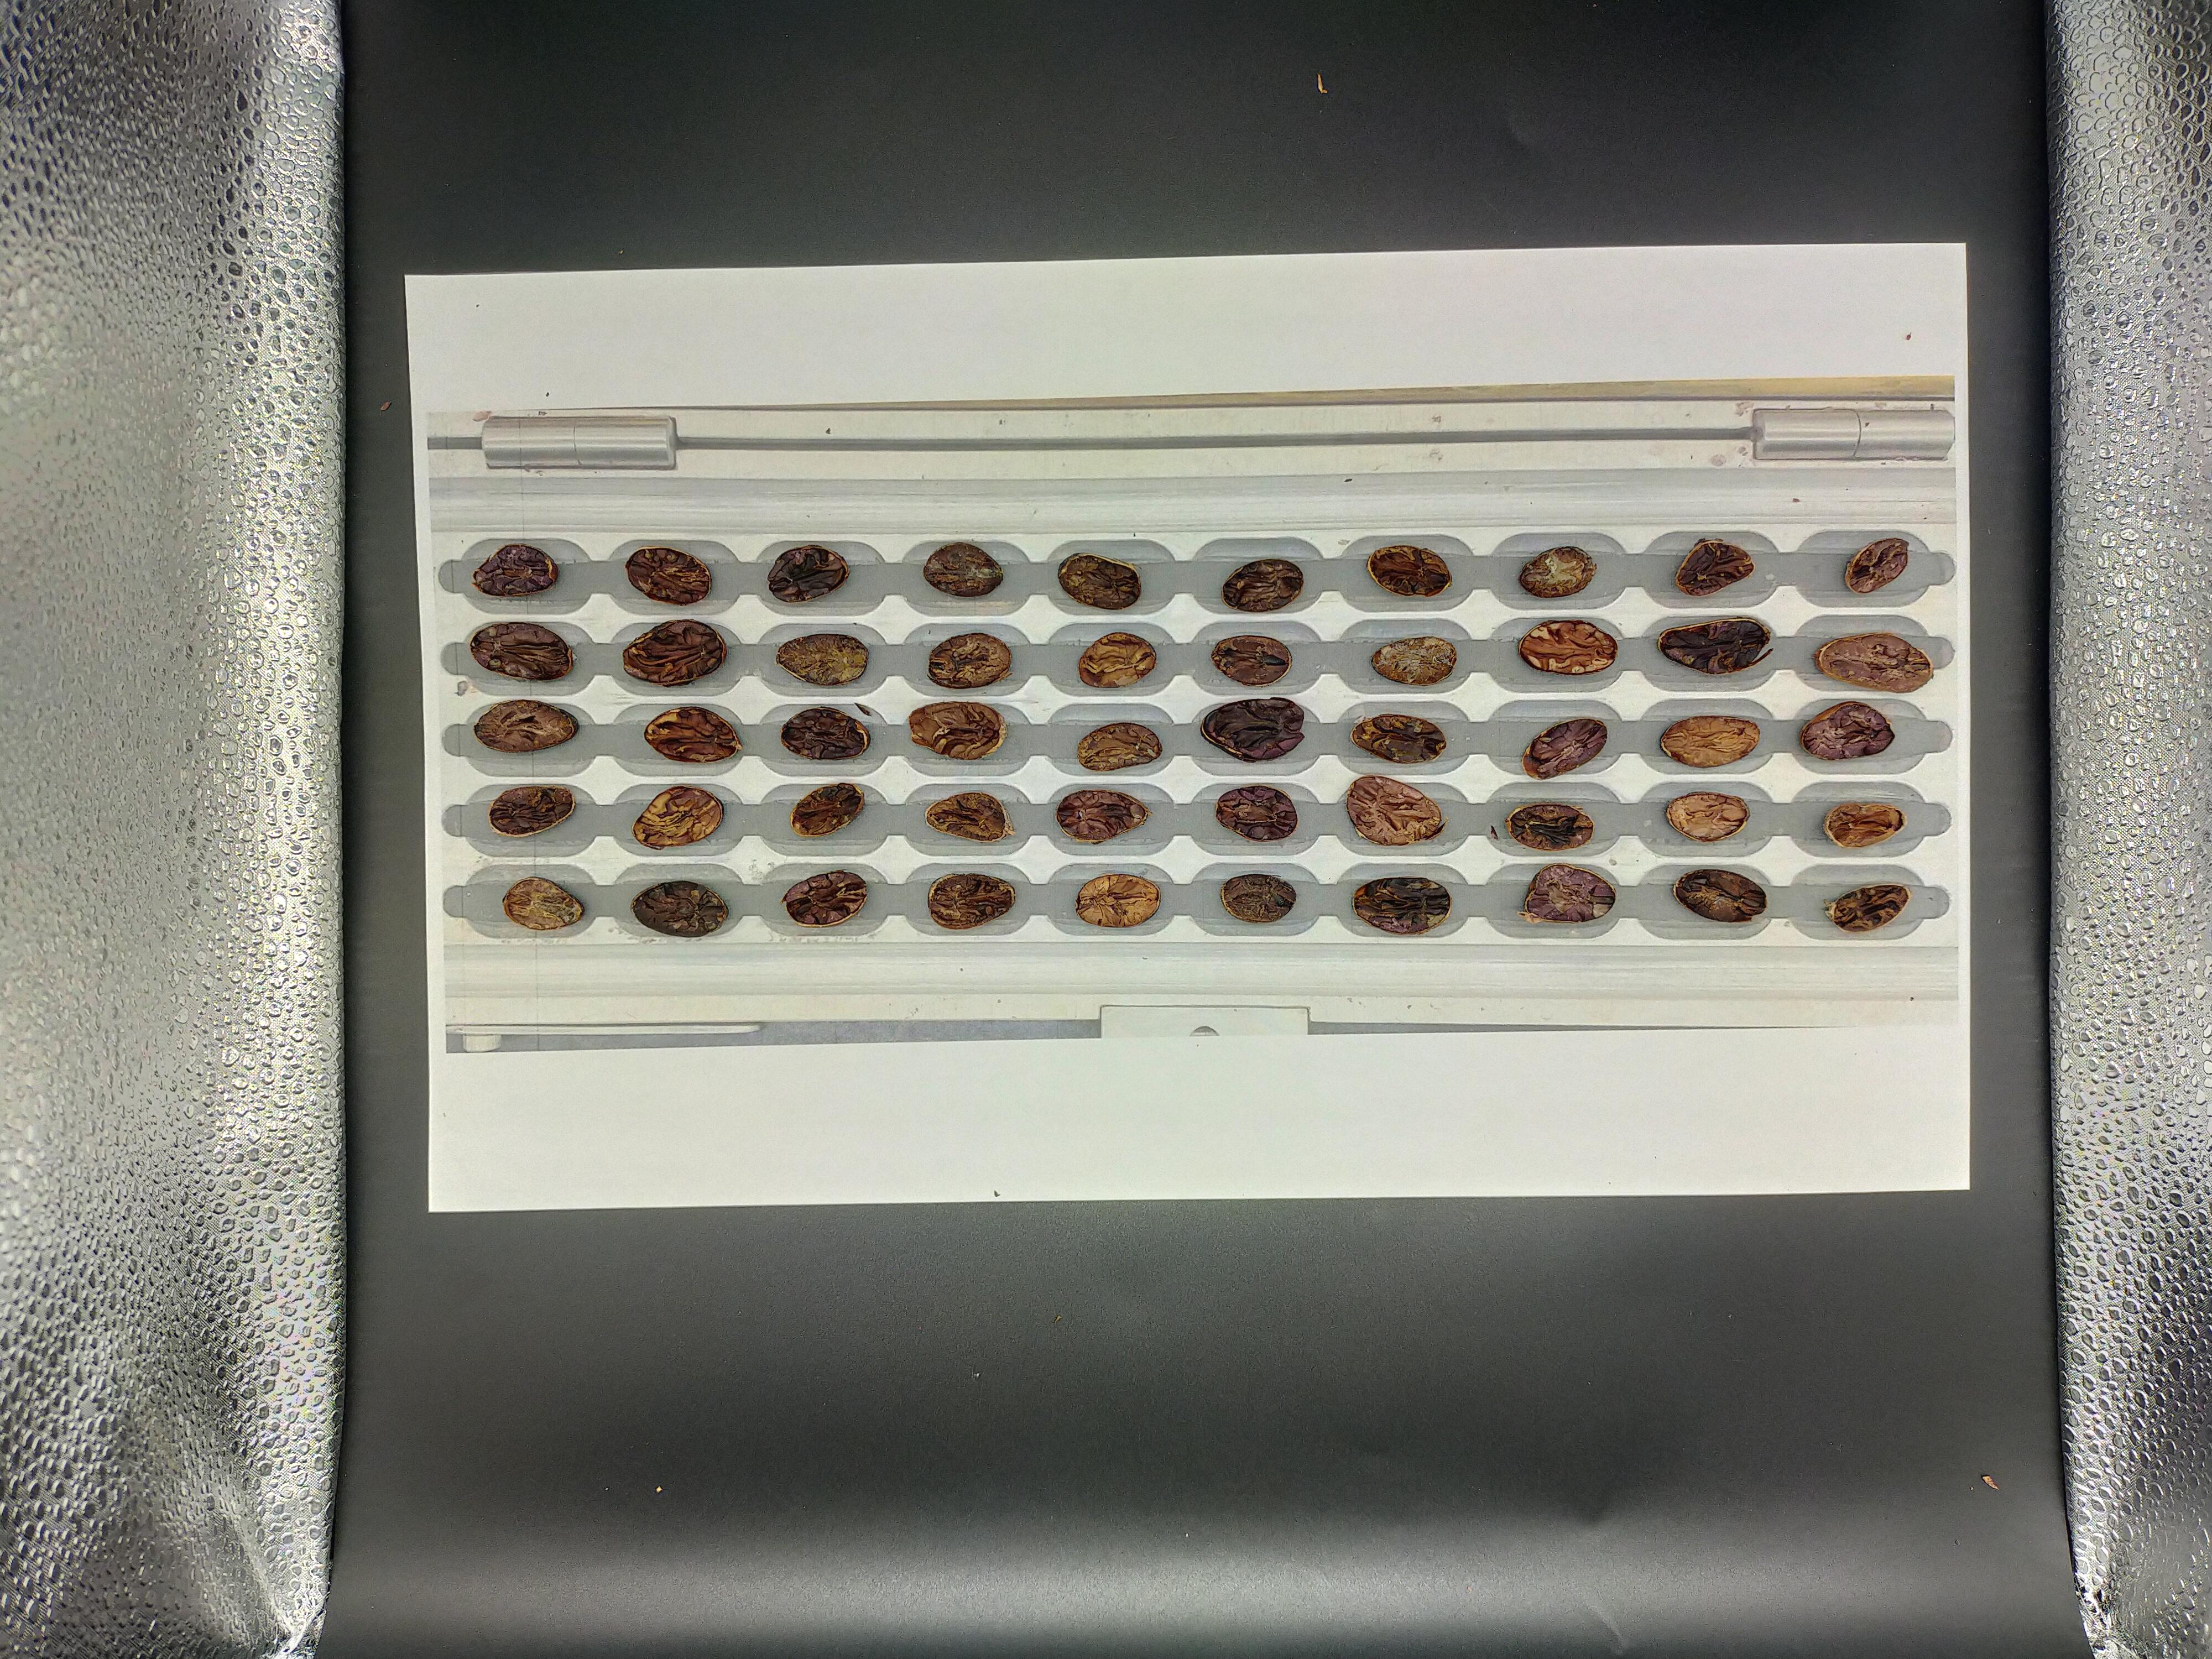Brown - G1: (314, 1124, 374, 1166), (327, 1169, 383, 1204), (775, 1124, 831, 1157), (932, 1218, 981, 1248)
Brown - G2: (685, 1204, 742, 1244), (320, 1208, 374, 1248), (695, 1086, 749, 1122), (472, 1253, 526, 1288), (319, 1087, 369, 1124), (463, 1169, 519, 1202), (470, 1213, 521, 1246), (540, 1211, 590, 1244), (401, 1208, 446, 1243), (552, 1131, 596, 1166)
Brown - G3: (925, 1131, 995, 1171), (240, 1166, 300, 1201), (470, 1133, 523, 1168), (846, 1175, 904, 1206), (538, 1089, 589, 1124), (549, 1253, 597, 1288), (941, 1079, 982, 1119), (850, 1211, 899, 1244), (618, 1133, 665, 1166), (550, 1176, 599, 1208)
Insect-damaged: (394, 1129, 453, 1166)
Mouldy: (773, 1086, 822, 1122), (254, 1255, 305, 1290), (472, 1084, 519, 1121), (700, 1133, 749, 1166), (622, 1255, 667, 1284)
Partly Purple - G1: (611, 1164, 672, 1202), (399, 1253, 449, 1286)
Partly Purple - G2: (237, 1124, 298, 1162), (846, 1122, 913, 1157), (691, 1256, 747, 1291), (768, 1216, 822, 1249), (397, 1169, 449, 1202), (618, 1209, 667, 1244)
Partly Purple - G3: (775, 1175, 829, 1215)
Total Purple - G2: (240, 1086, 291, 1117)
Total Purple - G3: (918, 1166, 974, 1202), (777, 1249, 831, 1284)
Very Dark Brown - G1: (932, 1262, 982, 1291)
Very Dark Brown - G2: (246, 1209, 298, 1244), (390, 1086, 437, 1124), (622, 1093, 671, 1129), (855, 1084, 900, 1119)
Very Dark Brown - G3: (852, 1251, 909, 1288), (320, 1258, 378, 1293), (690, 1171, 745, 1204)
